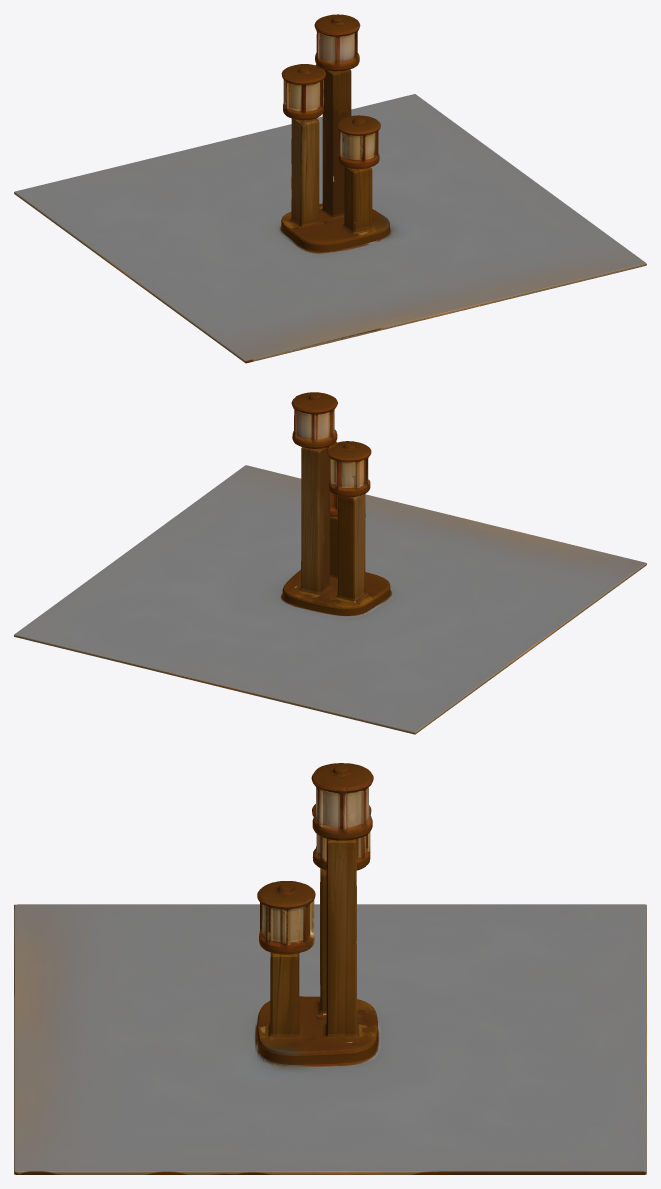
The model's file is room-02-lantern-cluster.glb.
3 views of the same model, one above another, from view 1: azimuth 30°, elevation 25°; view 2: azimuth 150°, elevation 25°; view 3: azimuth 270°, elevation 25° (orthographic). The views are drawn at different scales.
Visible parts, largest first — view 1: textured_mesh.obj; view 2: textured_mesh.obj; view 3: textured_mesh.obj.
Part boxes in pixels (left/top/right/bottom): textured_mesh.obj: left=14, top=14, right=646, bottom=363; textured_mesh.obj: left=14, top=392, right=646, bottom=734; textured_mesh.obj: left=14, top=763, right=646, bottom=1174.
Size of the model in its own units: 6.52 by 3.2 by 6.52.
Materials: 1 (1 with a texture image).
